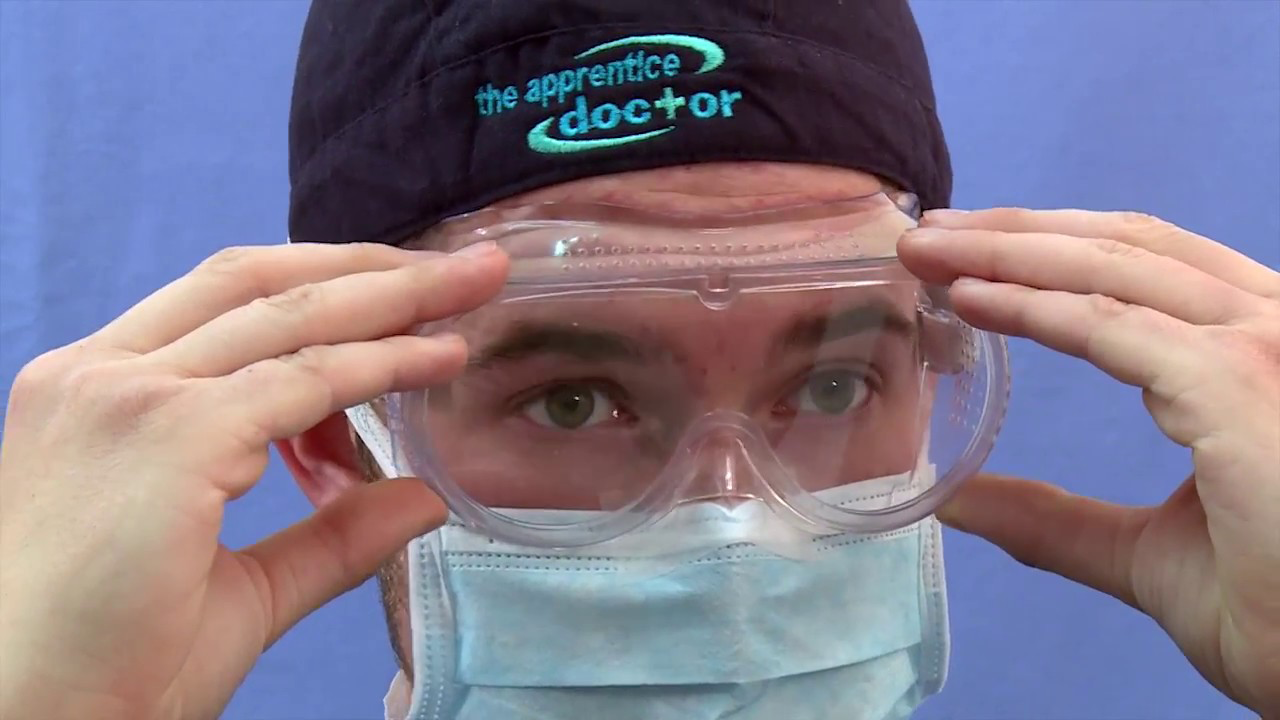Goggles: (378, 238, 1029, 546)
